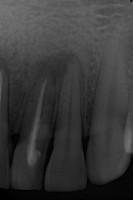Furcation Involvement: (32, 49, 74, 84), (0, 57, 9, 75)
